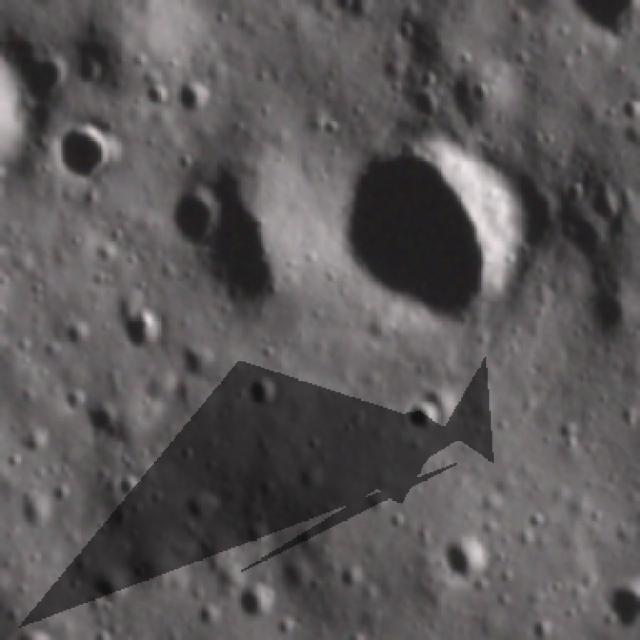crater: (324, 128, 538, 338), (198, 158, 290, 312), (53, 119, 125, 190), (161, 181, 225, 247), (11, 48, 75, 110), (79, 559, 138, 613), (557, 210, 608, 270), (110, 301, 161, 359), (435, 535, 494, 583), (583, 284, 631, 339), (181, 481, 228, 530), (169, 70, 216, 116), (394, 397, 444, 438), (231, 576, 274, 622), (600, 580, 640, 629), (245, 372, 284, 421), (180, 338, 218, 387), (83, 399, 128, 439), (401, 88, 444, 120), (64, 313, 98, 352), (292, 520, 326, 558), (70, 53, 108, 84), (141, 77, 174, 111), (334, 562, 371, 592), (389, 13, 416, 44), (468, 74, 492, 108), (562, 178, 588, 208), (316, 115, 346, 138), (113, 474, 139, 500), (416, 65, 439, 93), (622, 100, 638, 128)
